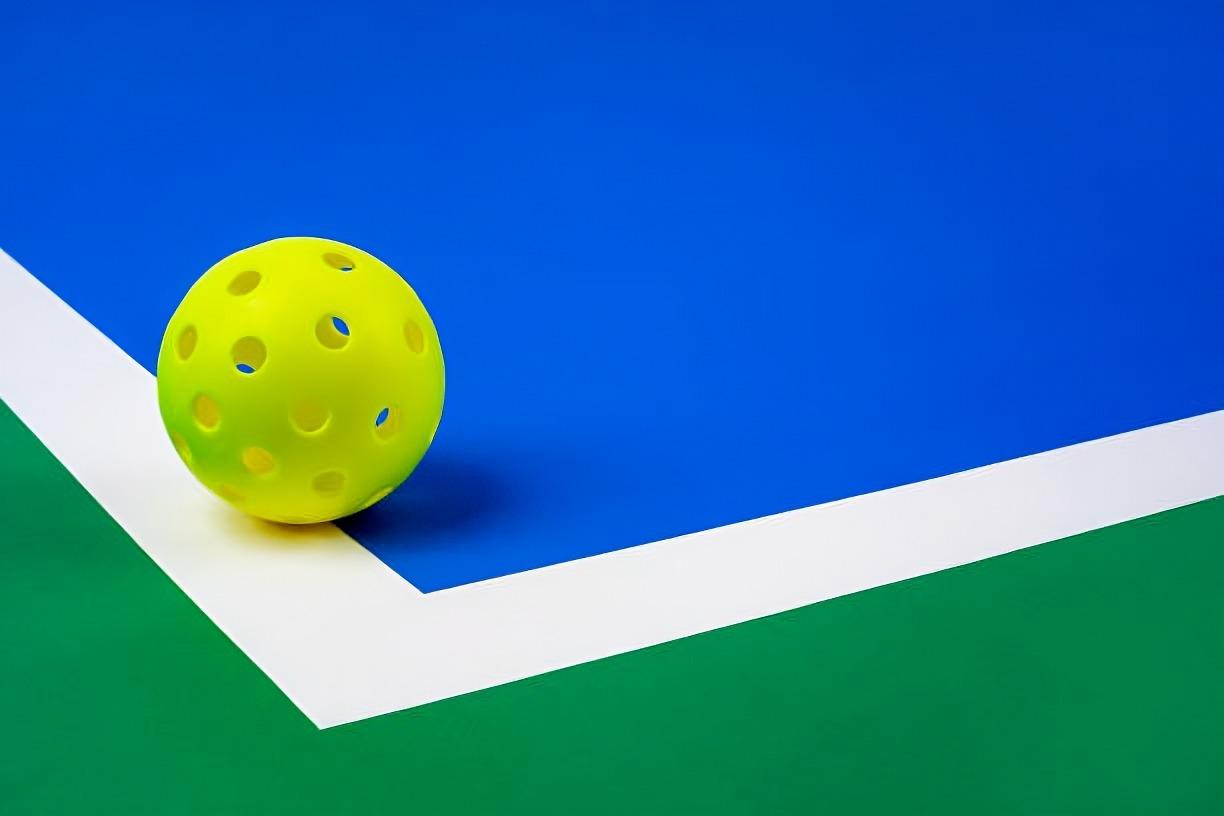ball: (148, 224, 456, 535)
